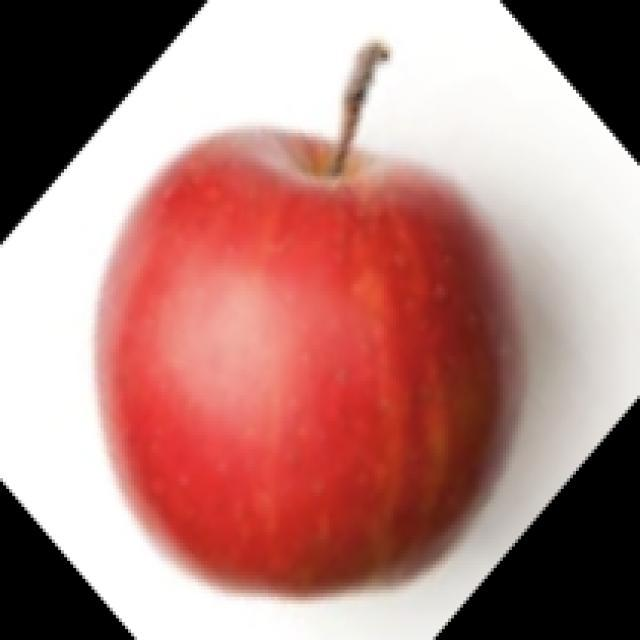Fresh Apple: (90, 125, 525, 598)
